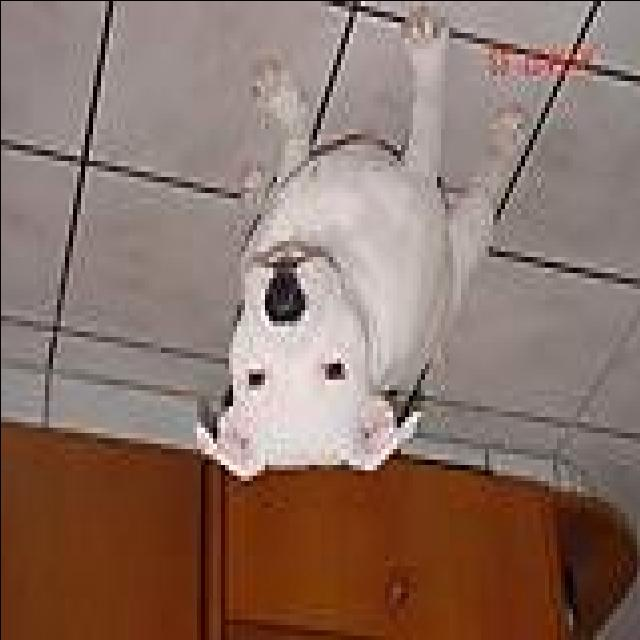staffordshire_bullterrier: (192, 16, 540, 486)
